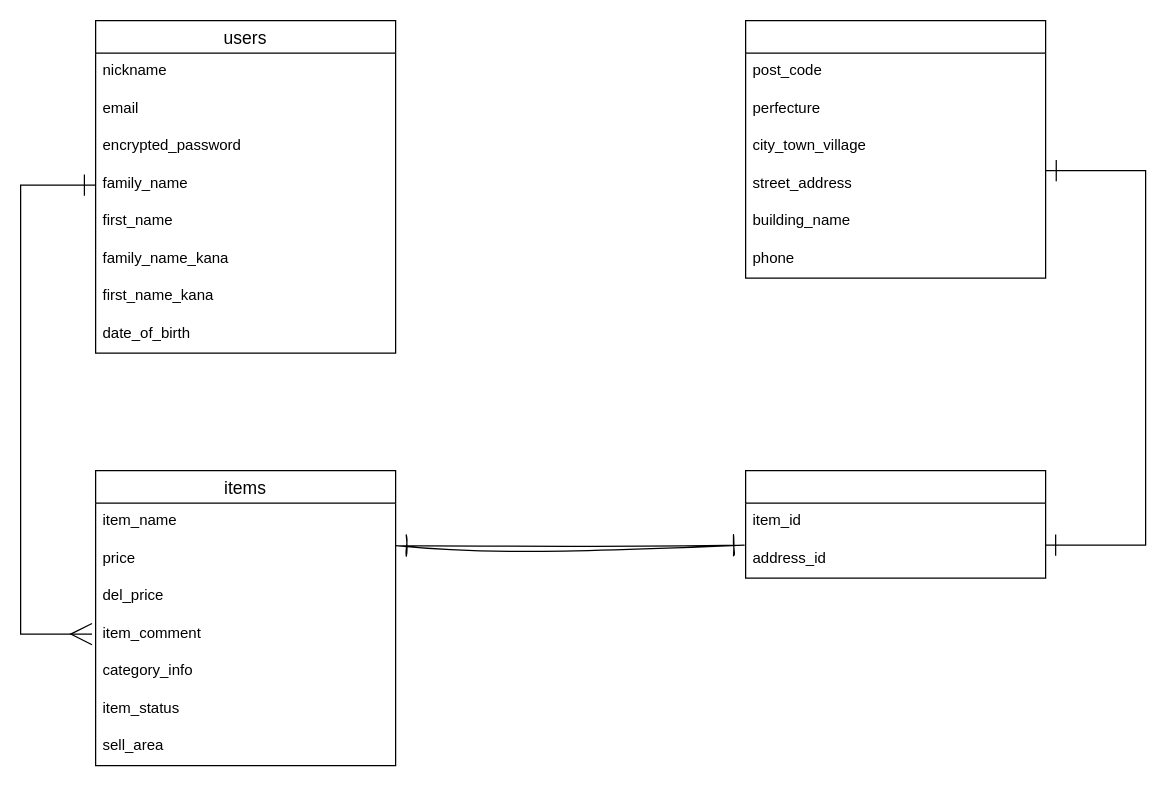
The diagram is 1166 pixels wide and 786 high, and some of its shapes have lost their labels. Here are the shapes that lost their labels. From the top down, the box of each, then its label:
(744, 19, 1046, 278): addresses
(744, 469, 1046, 578): orders
